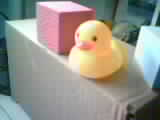duck: (62, 17, 133, 74)
